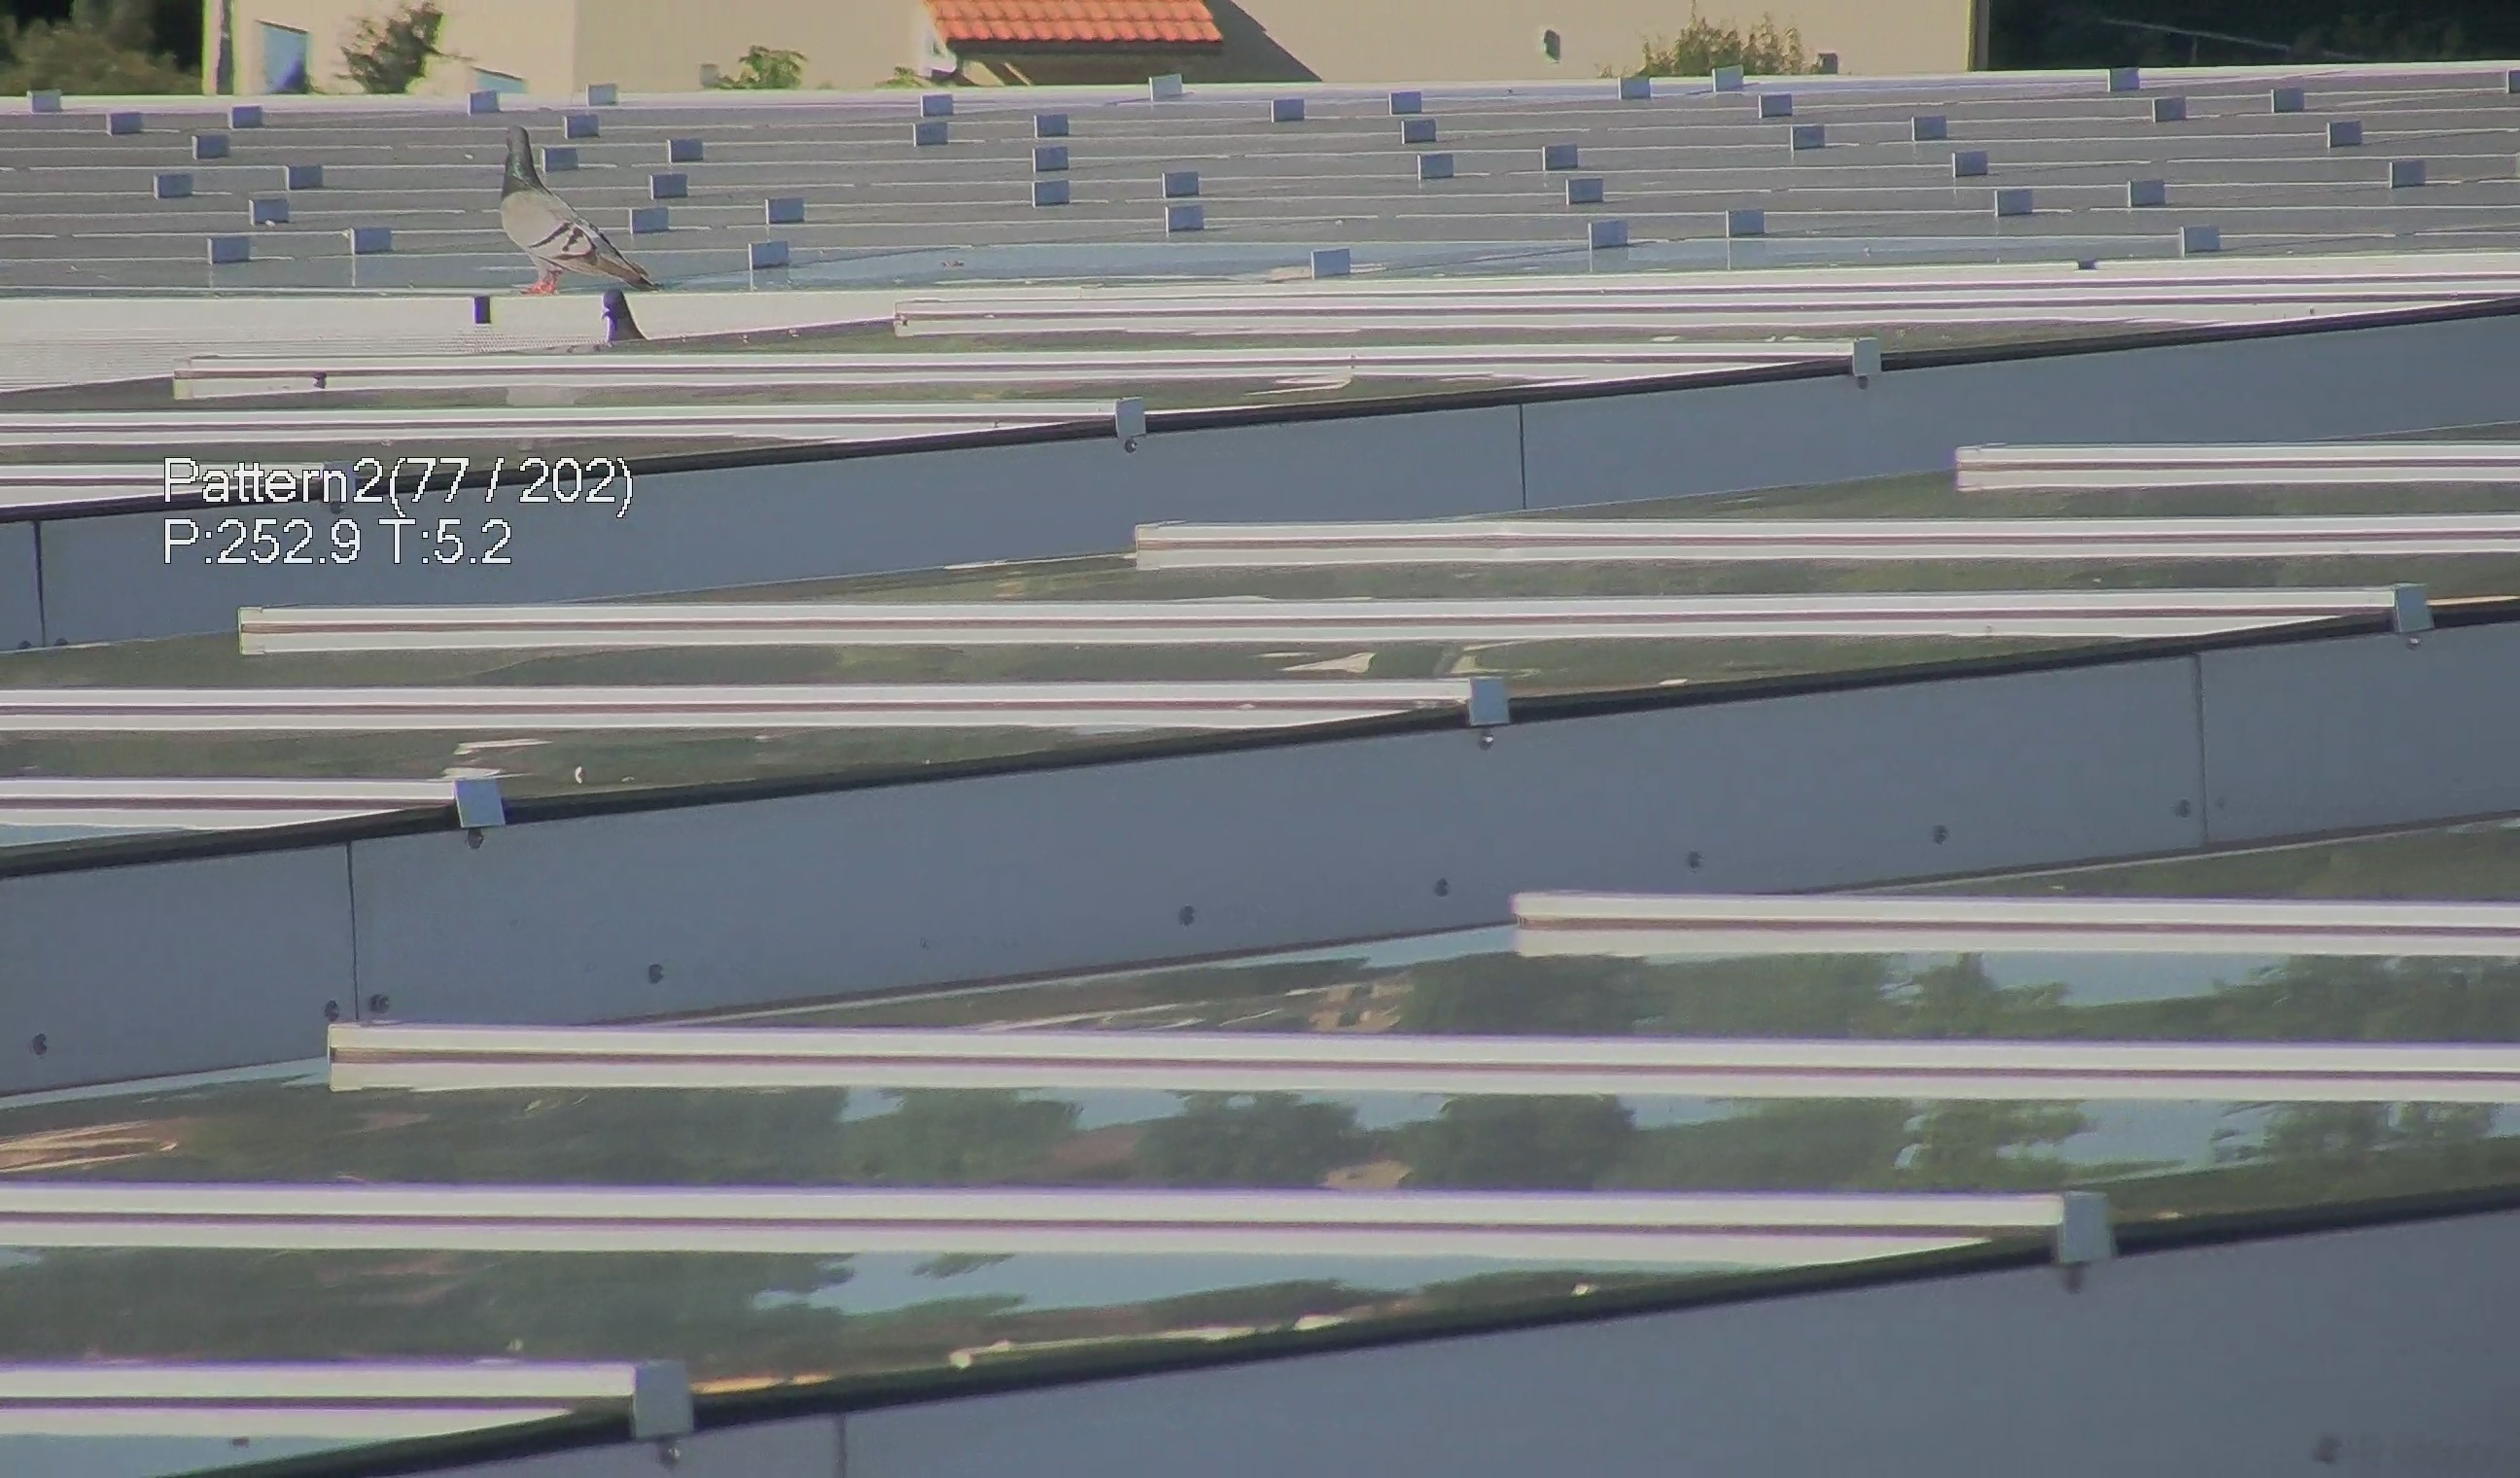Pigeon: (473, 121, 654, 310), (577, 285, 658, 352)
